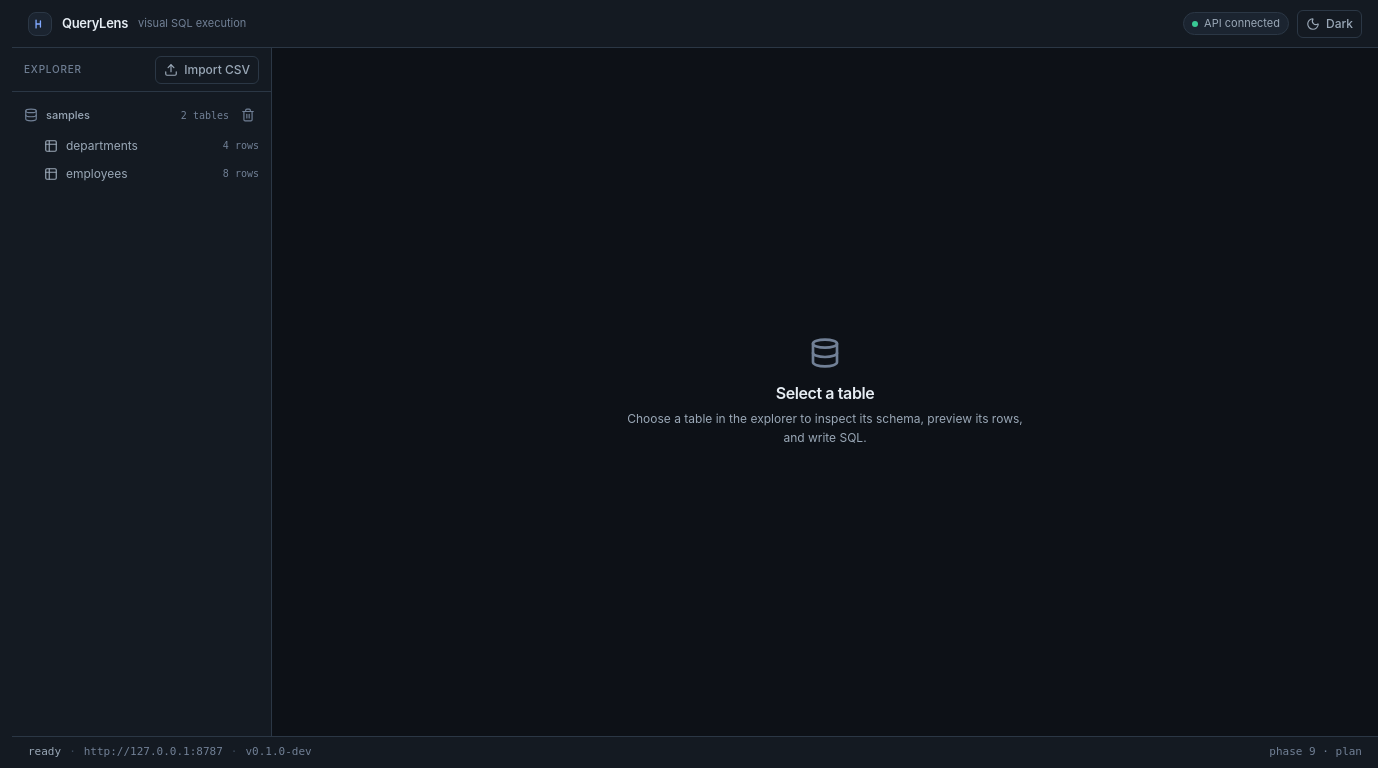
Test case: App › runs a query from the query tab and shows the backend result
Step 1. Click the button "employees 8 rows" → [142, 174], box x1=12 y1=160 x2=271 y2=188
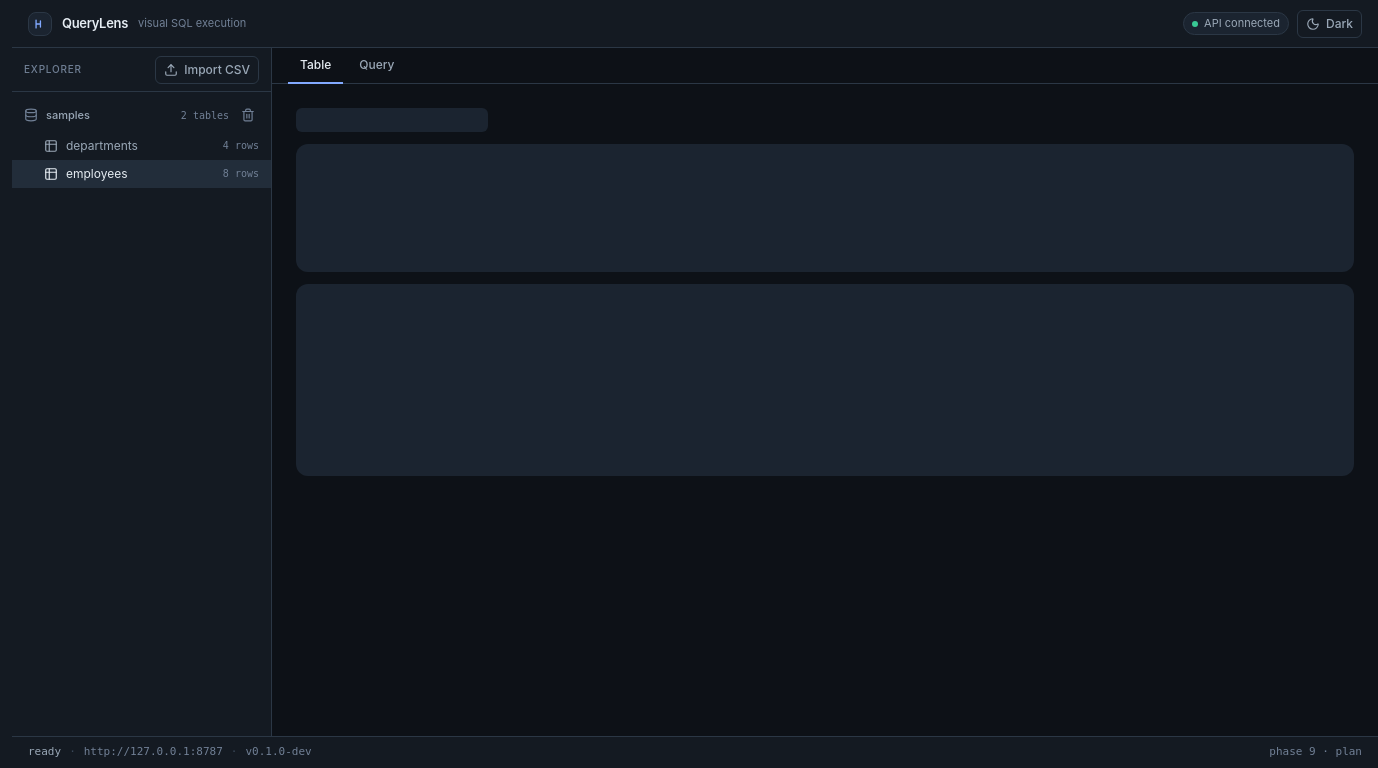
Step 2. Click the tab "Query" → [377, 66], box x1=347 y1=48 x2=406 y2=84
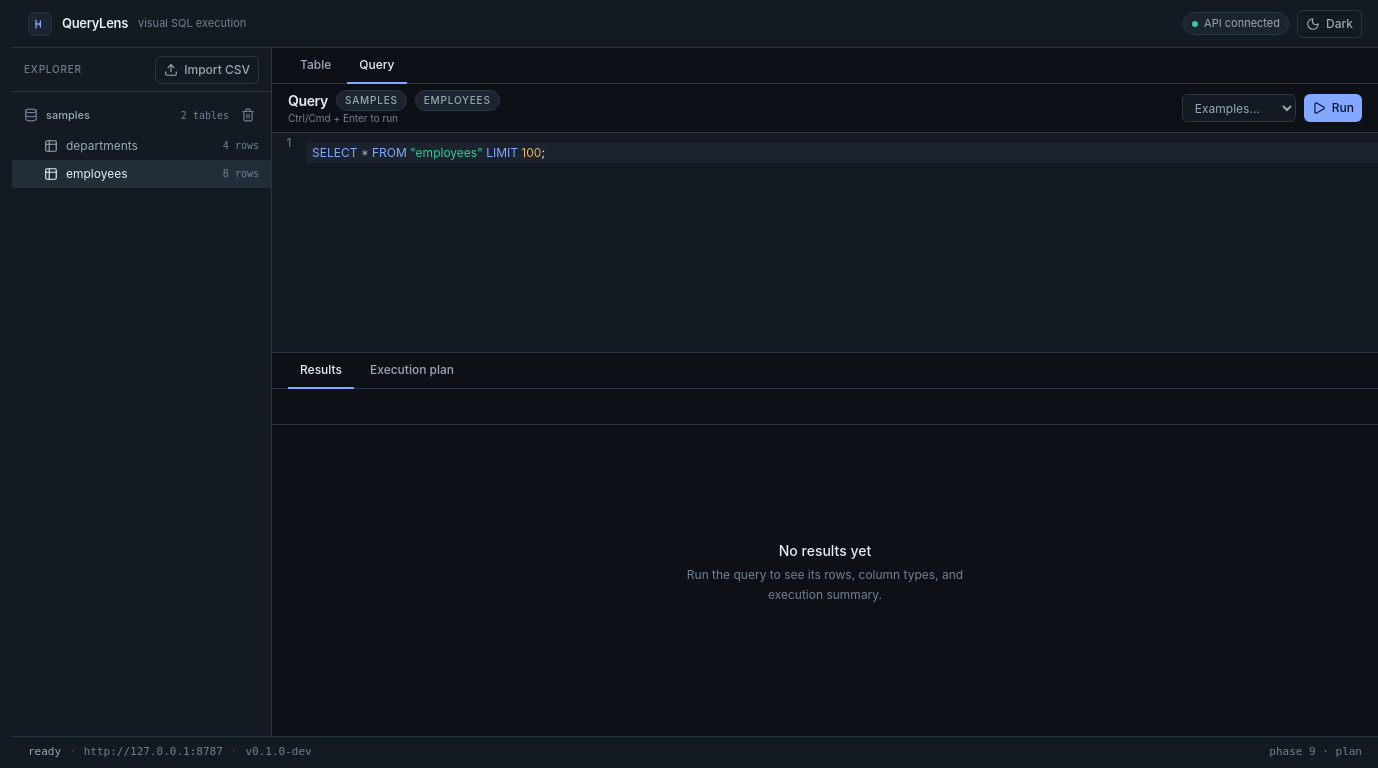
Check: the text "No results yet" is shown, box x1=779 y1=541 x2=871 y2=561
Step 3. Click the button "Run" → [1333, 108], box x1=1304 y1=94 x2=1362 y2=122
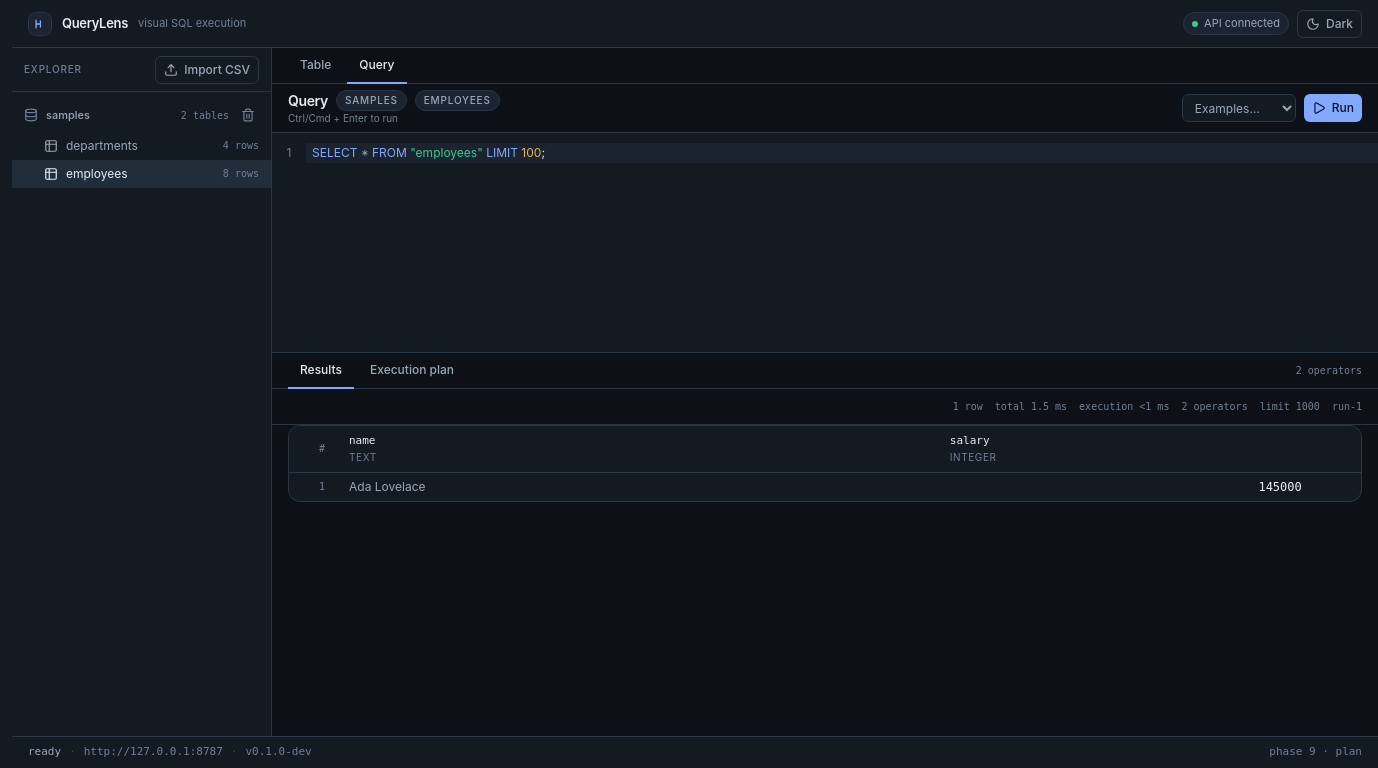
Check: the text "Ada Lovelace" is shown, box x1=349 y1=479 x2=426 y2=494
Check: the text "145000" is shown, box x1=1258 y1=480 x2=1302 y2=494
Check: the text "1 row" is shown, box x1=953 y1=399 x2=983 y2=414
